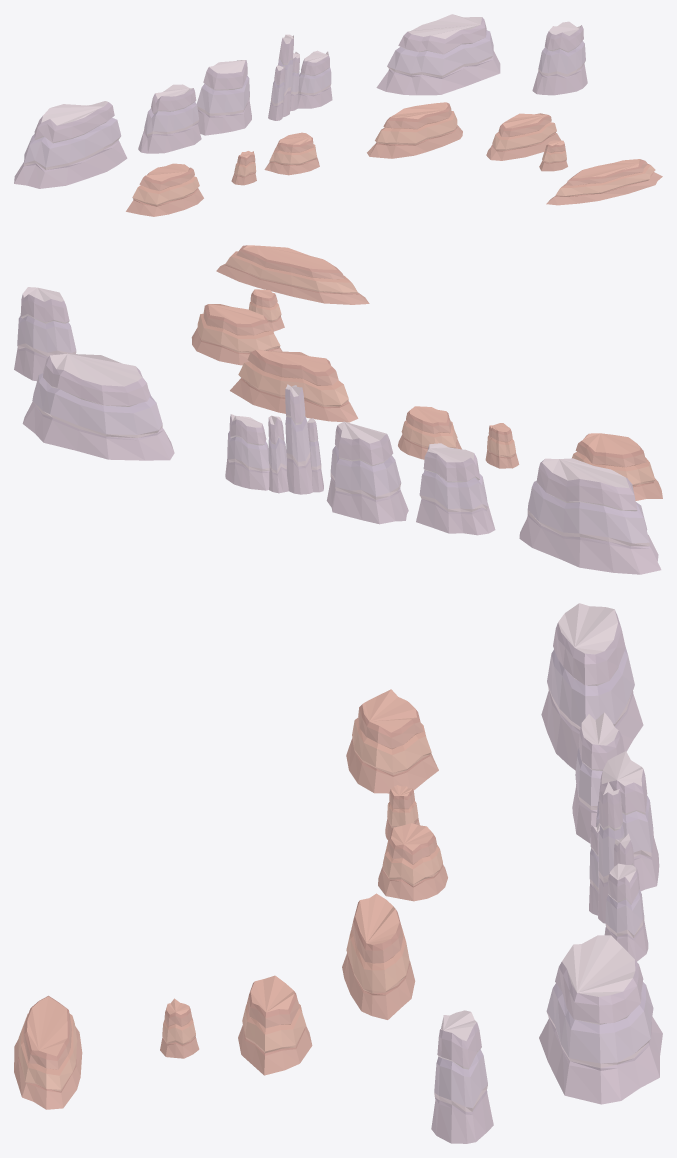
The model's file is BasinRim.gltf.
3 renders of one model, top to bottom at view 1: azimuth 30°, elevation 25°; view 2: azimuth 150°, elevation 25°; view 3: azimuth 270°, elevation 25°, orthographic. The views are drawn at different scales.
Parts seen in each view (by area): view 1: Basin skyline 7, Basin skyline 0, Middle shelf 3, Basin skyline 2, Basin skyline 1, Middle shelf 6, Basin skyline 8, Middle shelf 0, Middle shelf 4, Basin skyline 6, Middle shelf 2, Basin skyline 4 (+4 smaller); view 2: Basin skyline 7, Basin skyline 0, Basin skyline 2, Middle shelf 3, Basin skyline 1, Middle shelf 6, Basin skyline 8, Middle shelf 4, Middle shelf 0, Basin skyline 6, Basin skyline 4, Middle shelf 2 (+4 smaller); view 3: Basin skyline 7, Basin skyline 0, Middle shelf 0, Middle shelf 3, Basin skyline 8, Middle shelf 6, Middle shelf 4, Middle shelf 2, Basin skyline 2, Basin skyline 1, Basin skyline 6, Basin skyline 4 (+3 smaller).
Boxes of the visible parts, left/top/right/bottom form: Basin skyline 7: left=376, top=14, right=500, bottom=95; Basin skyline 0: left=14, top=101, right=127, bottom=188; Middle shelf 3: left=367, top=102, right=462, bottom=158; Basin skyline 2: left=197, top=60, right=251, bottom=135; Basin skyline 1: left=138, top=84, right=201, bottom=153; Middle shelf 6: left=546, top=159, right=662, bottom=205; Basin skyline 8: left=532, top=21, right=587, bottom=95; Middle shelf 0: left=126, top=163, right=203, bottom=216; Middle shelf 4: left=486, top=113, right=561, bottom=160; Basin skyline 6: left=297, top=50, right=332, bottom=108; Middle shelf 2: left=264, top=132, right=319, bottom=175; Basin skyline 4: left=277, top=34, right=293, bottom=117; Basin skyline 7: left=22, top=353, right=174, bottom=460; Basin skyline 0: left=519, top=458, right=661, bottom=574; Basin skyline 2: left=326, top=421, right=408, bottom=524; Middle shelf 3: left=230, top=349, right=358, bottom=422; Basin skyline 1: left=416, top=443, right=495, bottom=535; Middle shelf 6: left=216, top=245, right=369, bottom=304; Basin skyline 8: left=14, top=287, right=76, bottom=381; Middle shelf 4: left=191, top=304, right=282, bottom=365; Middle shelf 0: left=572, top=433, right=662, bottom=500; Basin skyline 6: left=225, top=414, right=269, bottom=490; Basin skyline 4: left=285, top=384, right=312, bottom=494; Middle shelf 2: left=398, top=406, right=461, bottom=459; Basin skyline 7: left=539, top=935, right=662, bottom=1104; Basin skyline 0: left=541, top=603, right=643, bottom=770; Middle shelf 0: left=346, top=689, right=438, bottom=793; Middle shelf 3: left=342, top=893, right=415, bottom=1019; Basin skyline 8: left=431, top=1010, right=493, bottom=1143; Middle shelf 6: left=14, top=995, right=82, bottom=1109; Middle shelf 4: left=238, top=975, right=312, bottom=1075; Middle shelf 2: left=378, top=823, right=447, bottom=901; Basin skyline 2: left=595, top=751, right=659, bottom=891; Basin skyline 1: left=572, top=712, right=624, bottom=843; Basin skyline 6: left=604, top=863, right=648, bottom=961; Basin skyline 4: left=598, top=782, right=624, bottom=923.
Bounding box in the file's own units: 92.79 × 12.8 × 55.16.
